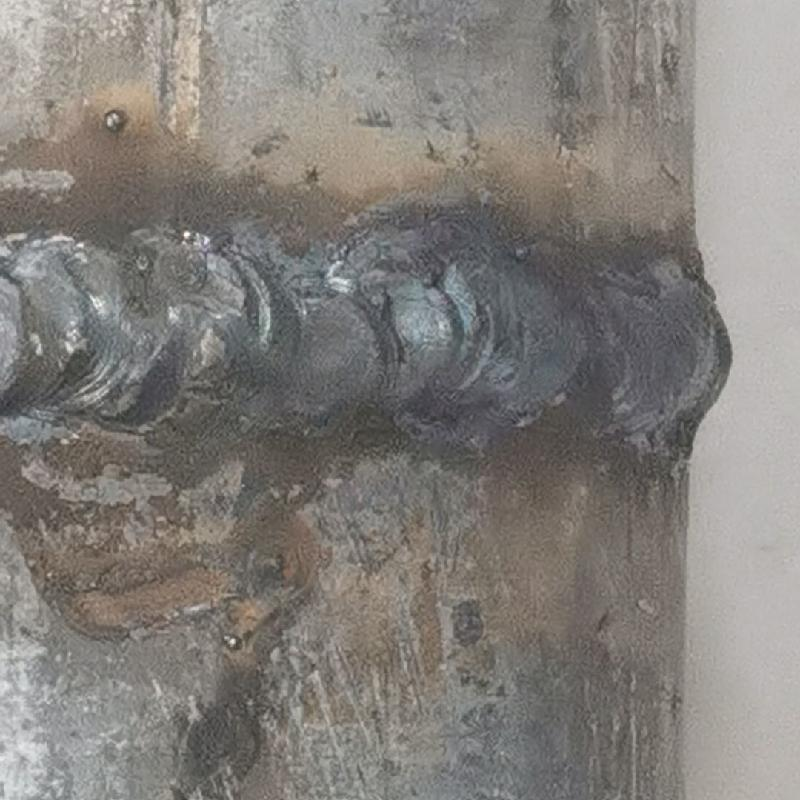good: (2, 218, 736, 467)
